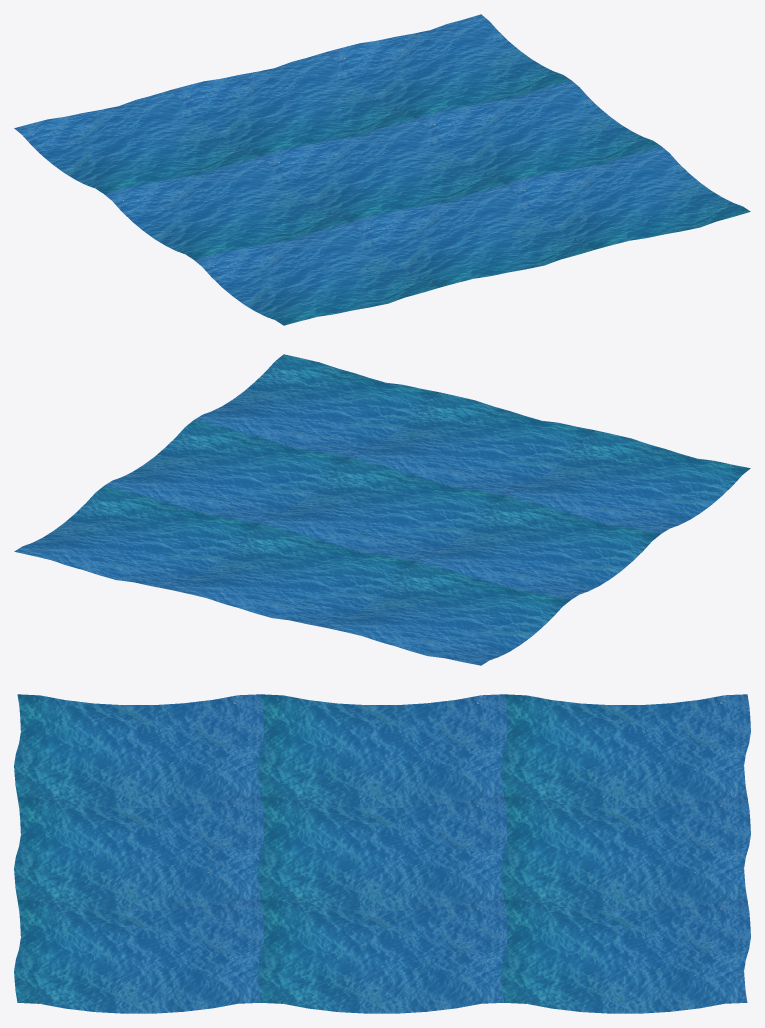
Rendered from ocean_000039.obj.
3 views of the same model, one above another, from view 1: azimuth 30°, elevation 25°; view 2: azimuth 150°, elevation 25°; view 3: azimuth 270°, elevation 25° (orthographic). The views are drawn at different scales.
Visible parts, largest first — view 1: Ocean_Plan.001; view 2: Ocean_Plan.001; view 3: Ocean_Plan.001.
Boxes of the visible parts, <box> form: Ocean_Plan.001: <box>14,14,750,325</box>; Ocean_Plan.001: <box>14,354,750,665</box>; Ocean_Plan.001: <box>14,694,750,1013</box>.
Bounding box in the file's own units: 109064 × 1782 × 110002.
1 material, 1 textured.
